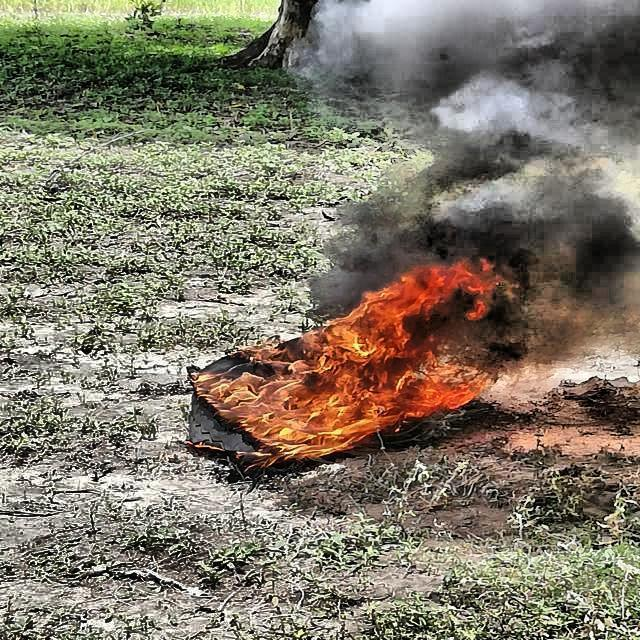Fire: (200, 259, 499, 456)
Smoke: (294, 0, 636, 256)
